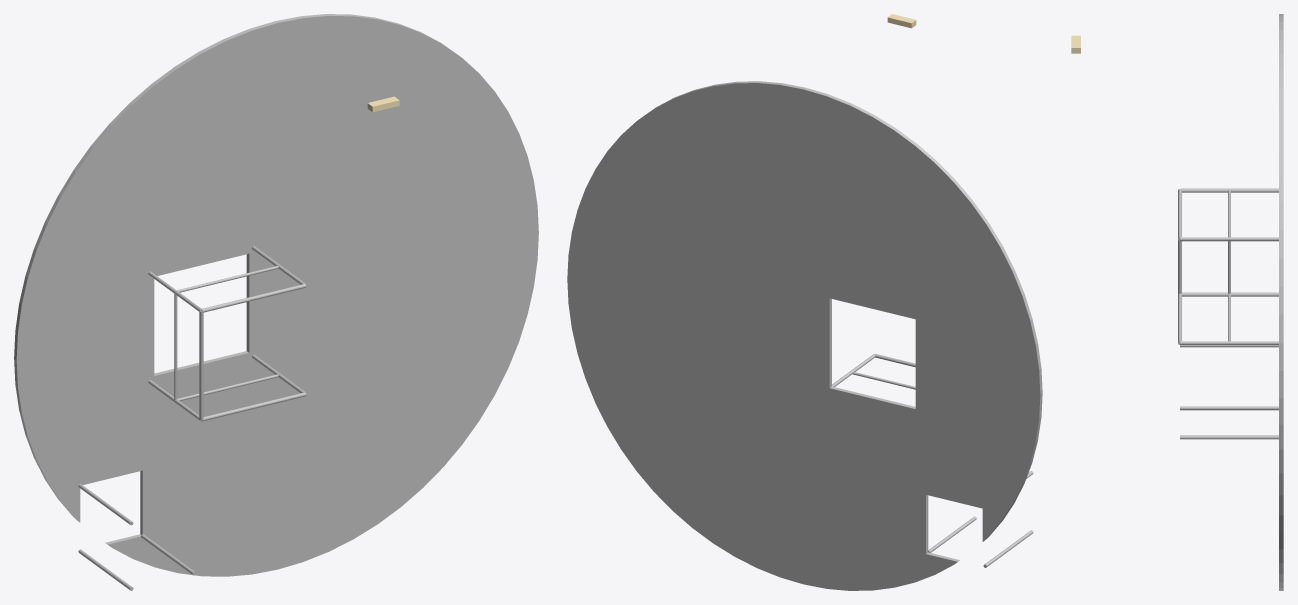
The model's file is platform_2.obj.
3 views of the same model, side by side, from view 1: azimuth 30°, elevation 25°; view 2: azimuth 150°, elevation 25°; view 3: azimuth 270°, elevation 25° (orthographic). The views are drawn at different scales.
Parts seen in each view (by area): view 1: platform_2; view 2: platform_2; view 3: platform_2.
Part boxes in pixels (<box>): platform_2: <box>14,14,538,590</box>; platform_2: <box>567,14,1042,590</box>; platform_2: <box>1071,14,1283,590</box>.
Bounding box in the file's own units: 5.84 × 5.84 × 2.15.
